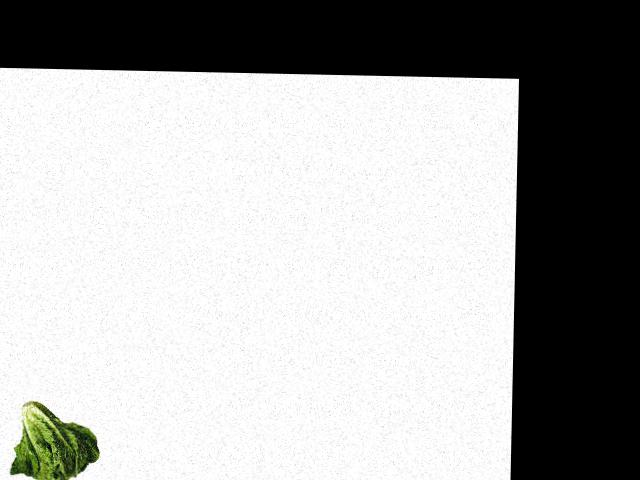lettuce: (7, 395, 102, 480)
